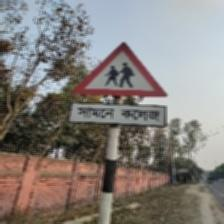College-in-front: (56, 41, 184, 144)
